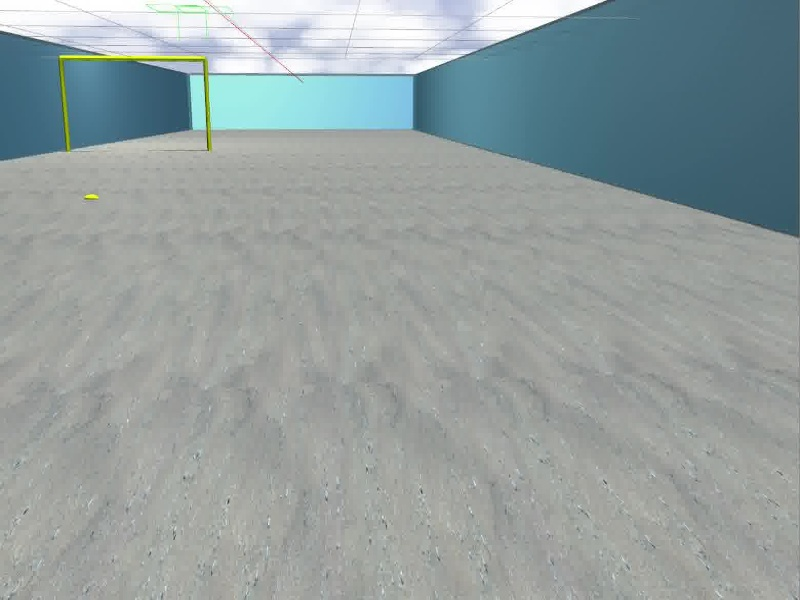gate: (57, 53, 213, 153)
